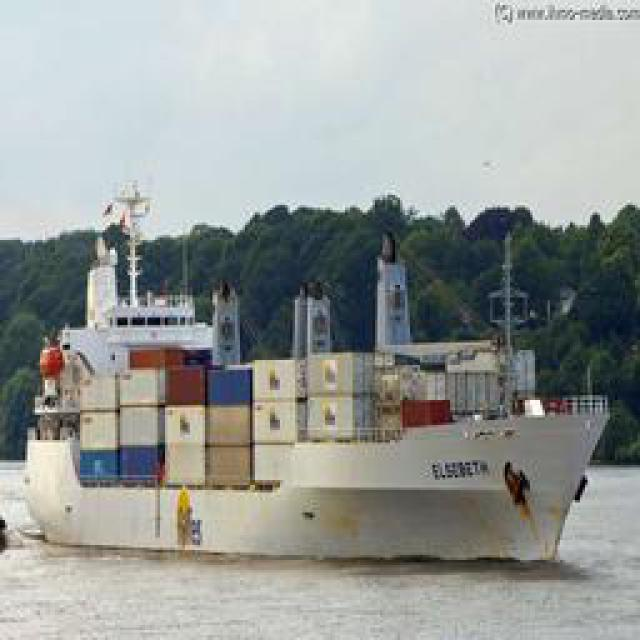Ship: (15, 221, 610, 559)
